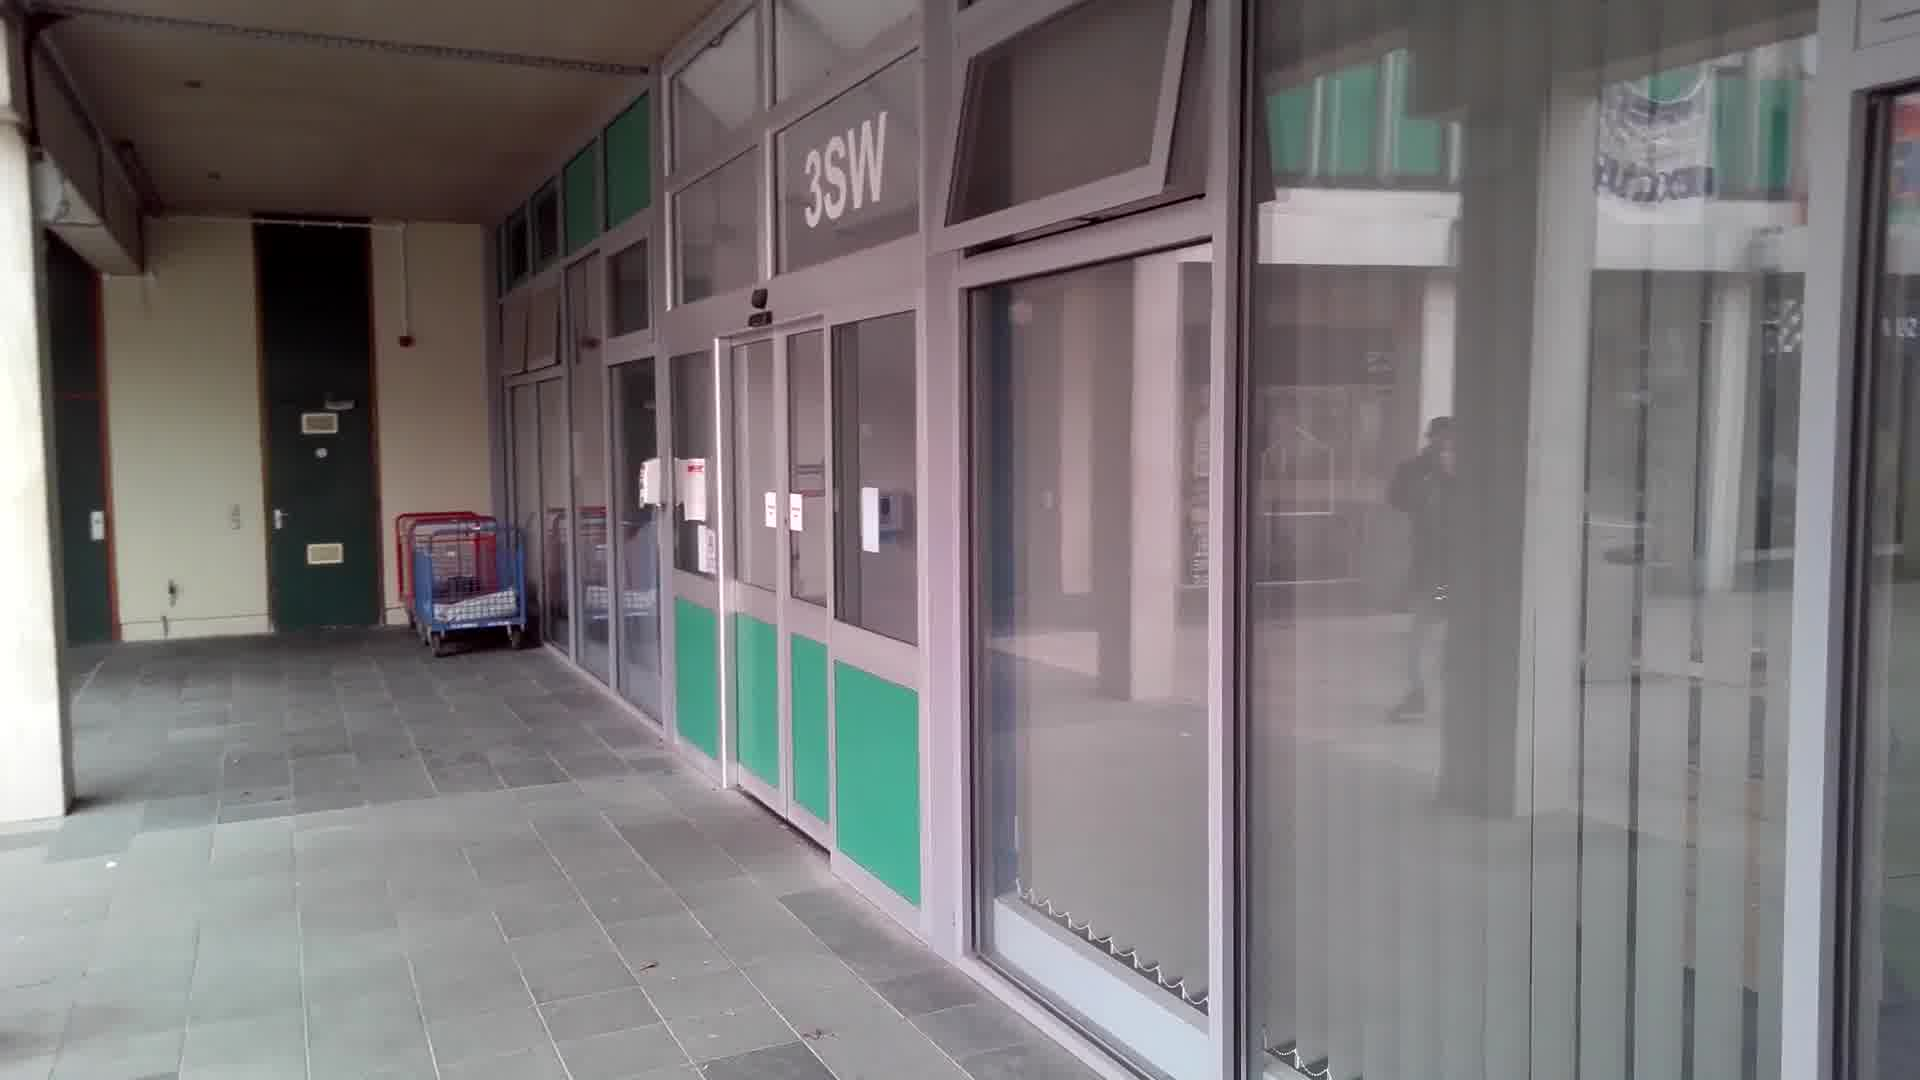Door: (713, 315, 847, 853)
